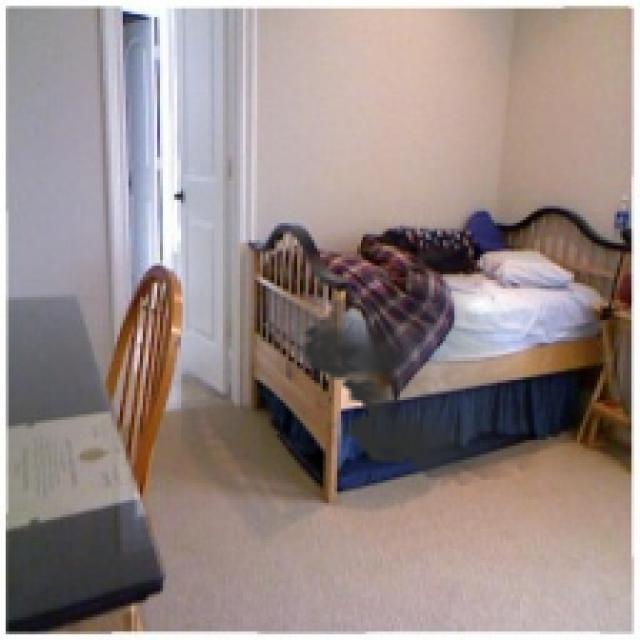smoke: (291, 243, 560, 486)
